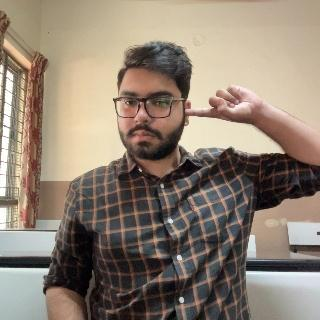Deaf: (187, 86, 276, 132)
Face: (113, 40, 185, 157)
